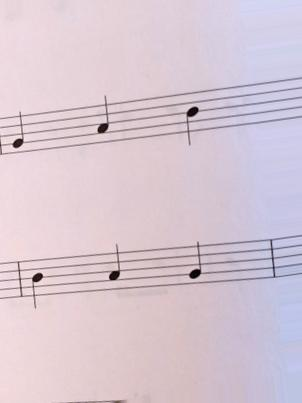note: (182, 236, 210, 299), (102, 239, 127, 297), (26, 255, 49, 317), (182, 90, 203, 153), (6, 107, 31, 159), (93, 90, 115, 149)
